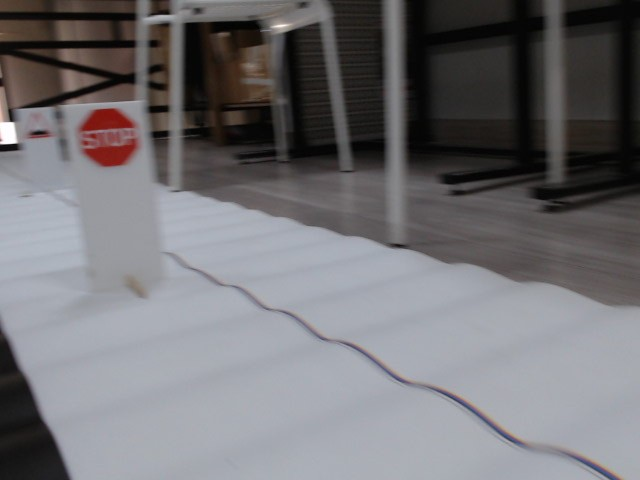Stop: (75, 107, 141, 168)
